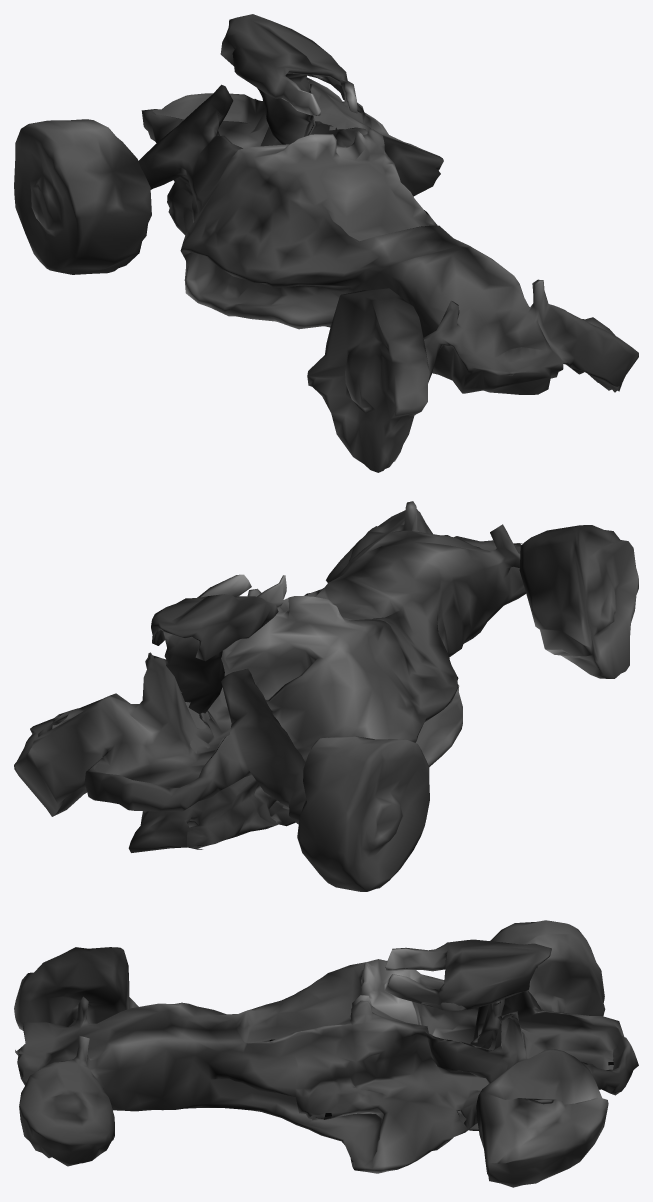
The model's file is wreckedAssaultBuggy.FBX.
3 views of the same model, one above another, from view 1: azimuth 30°, elevation 25°; view 2: azimuth 150°, elevation 25°; view 3: azimuth 270°, elevation 25° (orthographic). The views are drawn at different scales.
Visible parts, largest first — view 1: Wrecked_AssaultBuggy:Group33170; view 2: Wrecked_AssaultBuggy:Group33170; view 3: Wrecked_AssaultBuggy:Group33170.
Part boxes in pixels (x1,y1,x2,y2): Wrecked_AssaultBuggy:Group33170: [14, 14, 638, 472]; Wrecked_AssaultBuggy:Group33170: [14, 501, 638, 891]; Wrecked_AssaultBuggy:Group33170: [14, 920, 638, 1187].
Bounding box in the file's own units: 49.54 × 26.77 × 80.27.
1 material, 1 textured.
